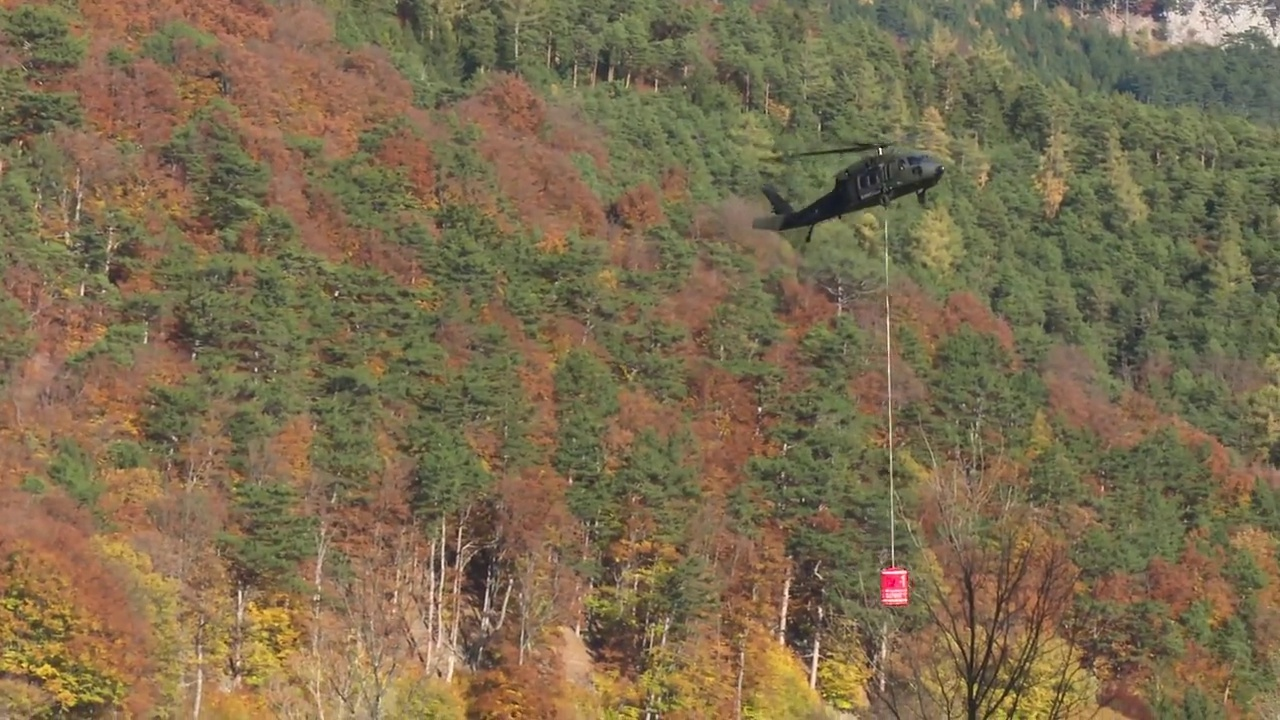heli: (752, 141, 947, 233)
